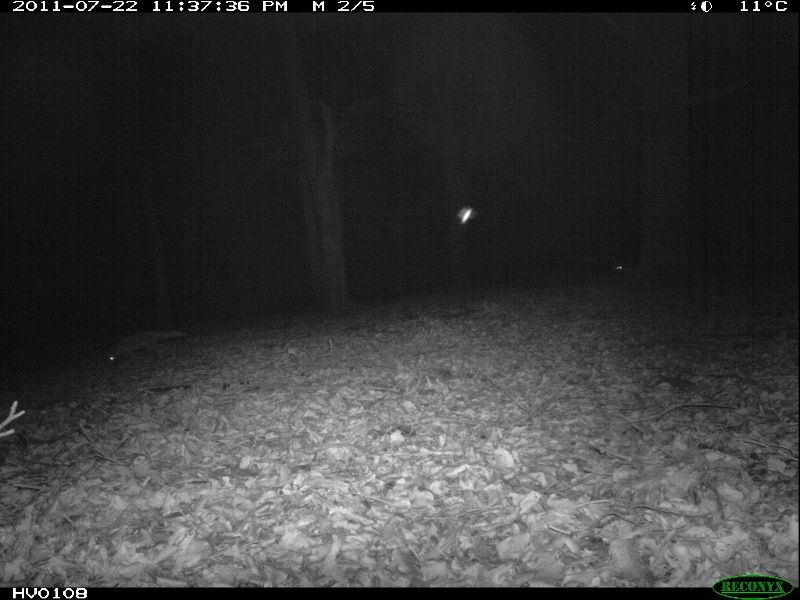fox: (106, 326, 188, 366), (611, 258, 640, 284)
